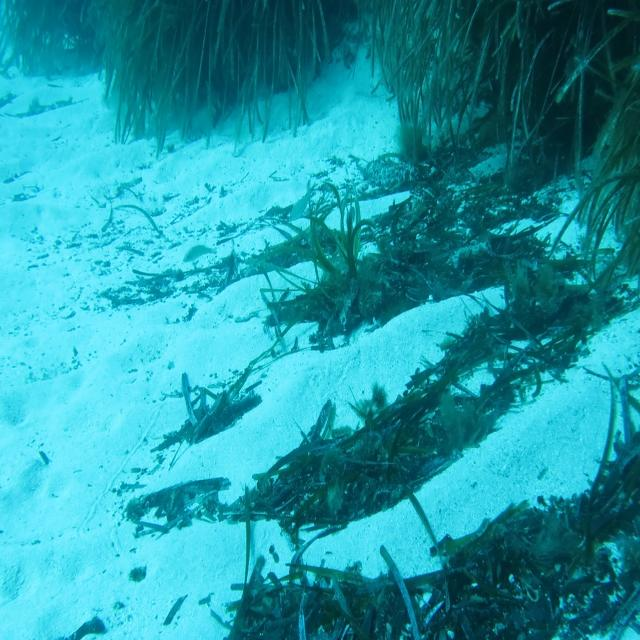BN: (182, 245, 218, 263)
female: (279, 187, 320, 225)
vegetation: (236, 427, 640, 638), (247, 281, 593, 518), (362, 0, 618, 165), (118, 0, 307, 99), (576, 54, 640, 264), (370, 234, 472, 290), (284, 281, 374, 323), (124, 484, 216, 516), (62, 613, 101, 640), (157, 593, 183, 629), (123, 564, 144, 585)
